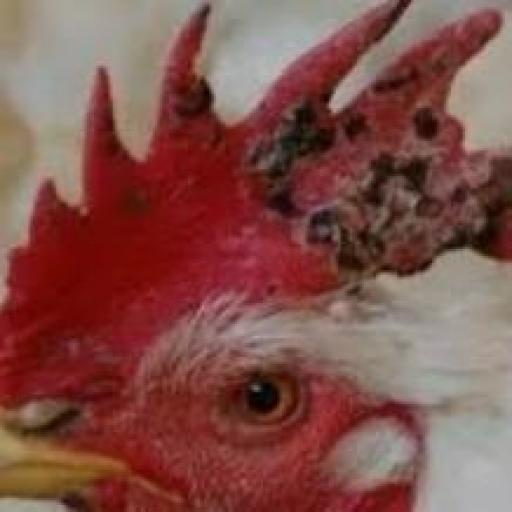disease: (246, 141, 512, 282), (238, 85, 342, 179), (382, 42, 463, 137), (152, 59, 240, 113), (106, 175, 164, 225)
